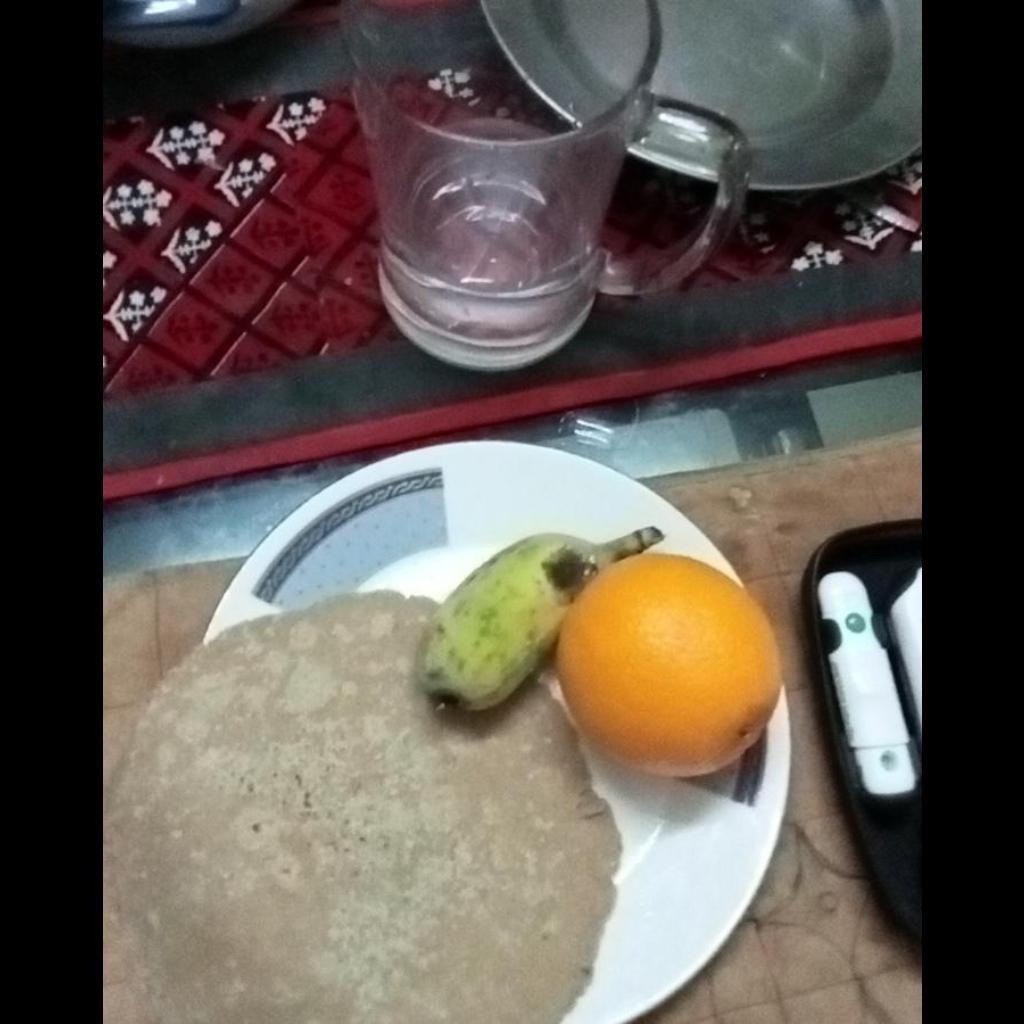banana: (417, 527, 667, 706)
orange: (555, 553, 785, 775)
ruti: (102, 588, 622, 1023)
